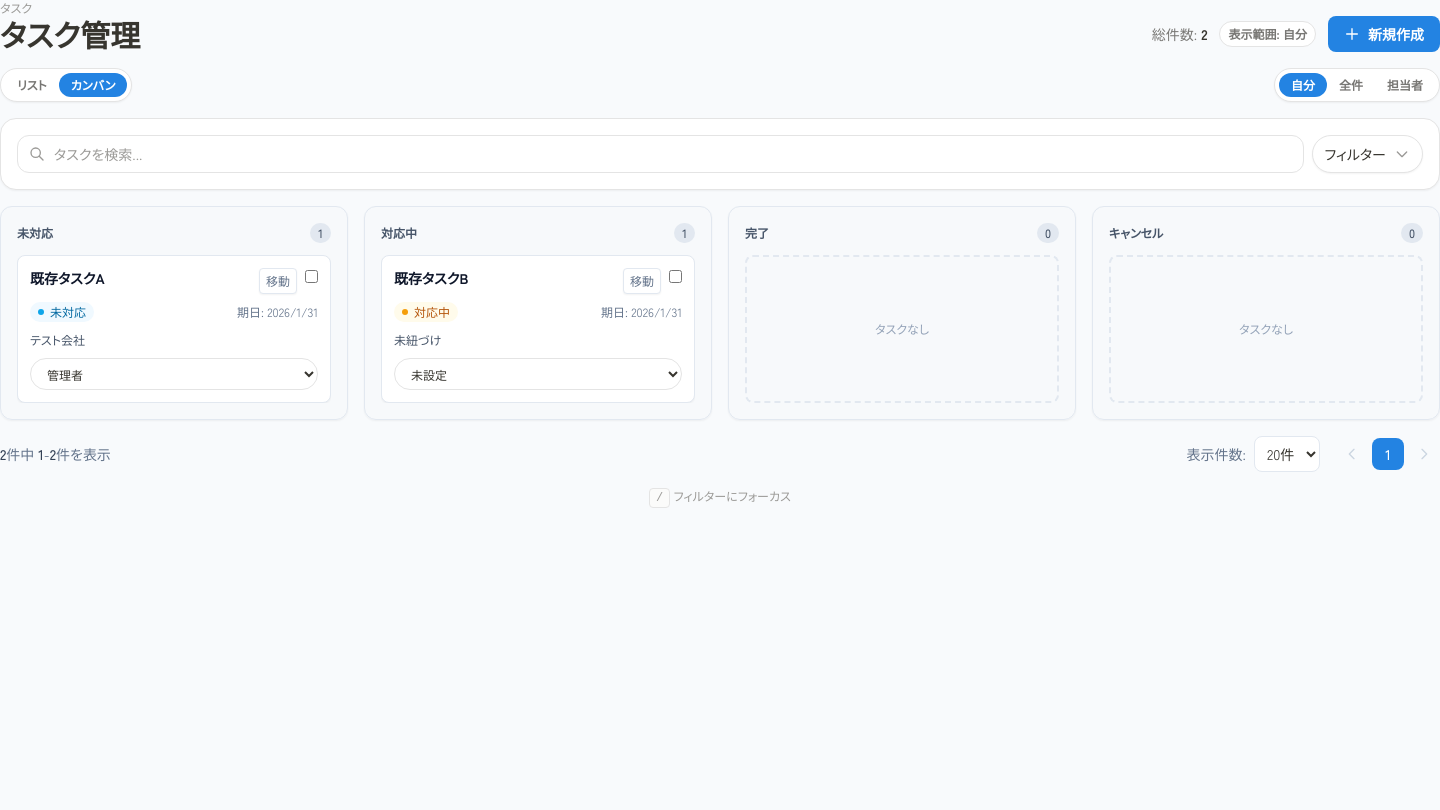
it: タスク一覧ページ › 作成フォーム未入力で送信すると必須エラーを表示する
Click the button "新規作成": x=1384, y=34 [1328, 16, 1439, 52]
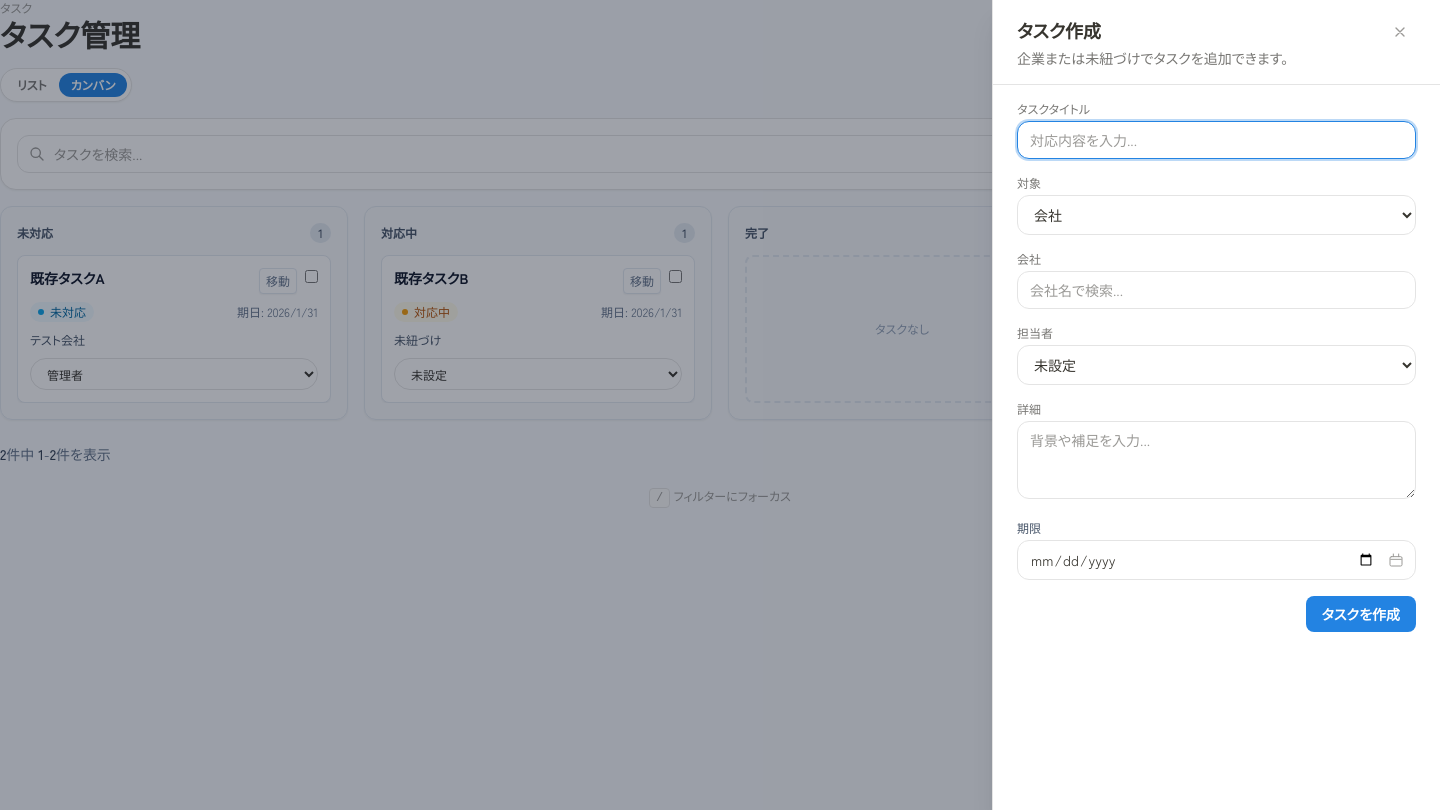
Click the button "タスクを作成": x=1361, y=614 [1306, 596, 1416, 632]
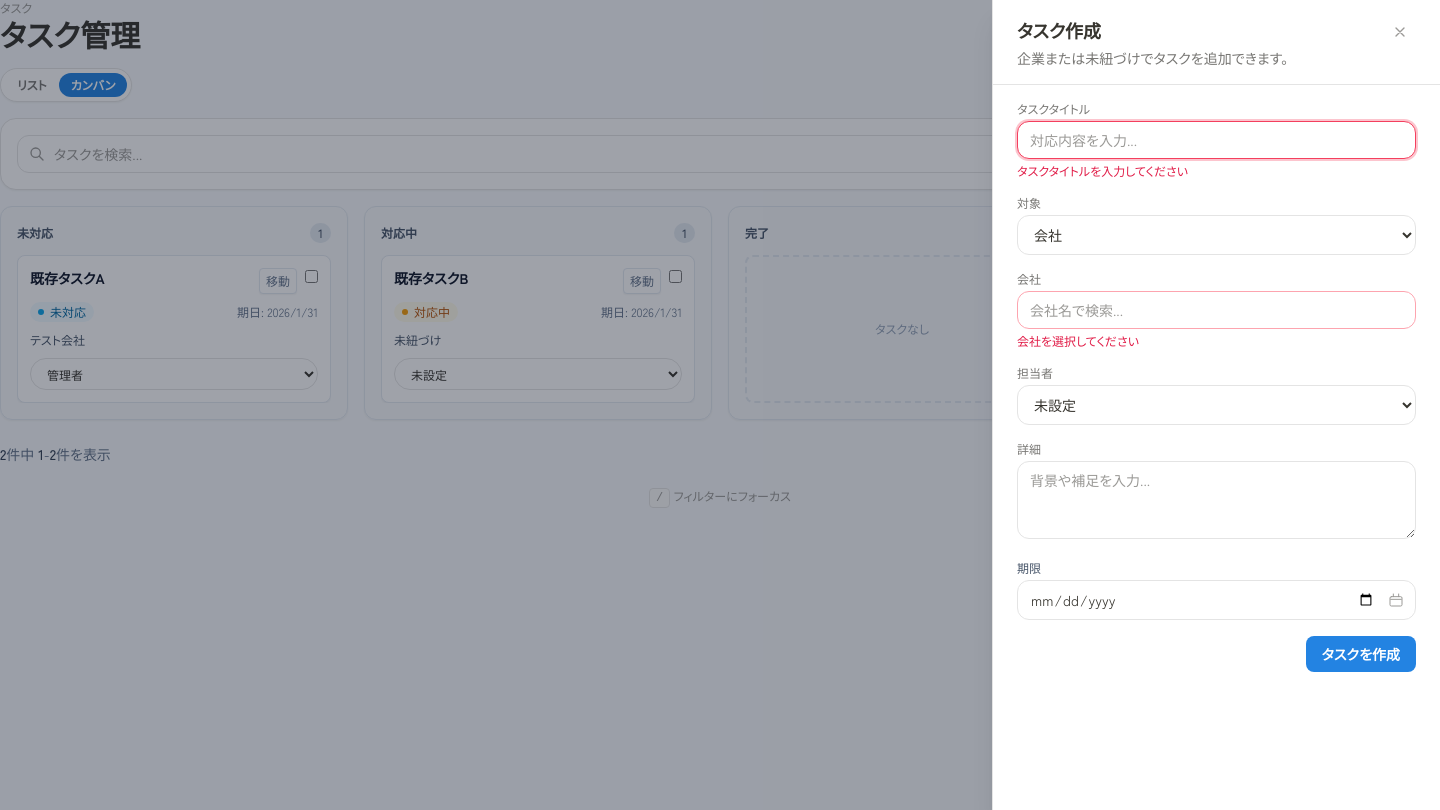
Check: the text "タスクタイトルを入力してください" is shown, box [1017, 162, 1188, 179]
Check: the text "会社を選択してください" is shown, box [1017, 332, 1139, 349]
